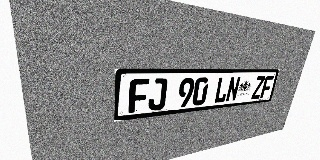0: (192, 77, 209, 106)
9: (177, 77, 195, 108)
F: (128, 79, 149, 113), (260, 76, 274, 98)
J: (148, 78, 168, 111)
L: (213, 77, 230, 103)
N: (225, 76, 241, 102)
Z: (251, 76, 266, 99)
